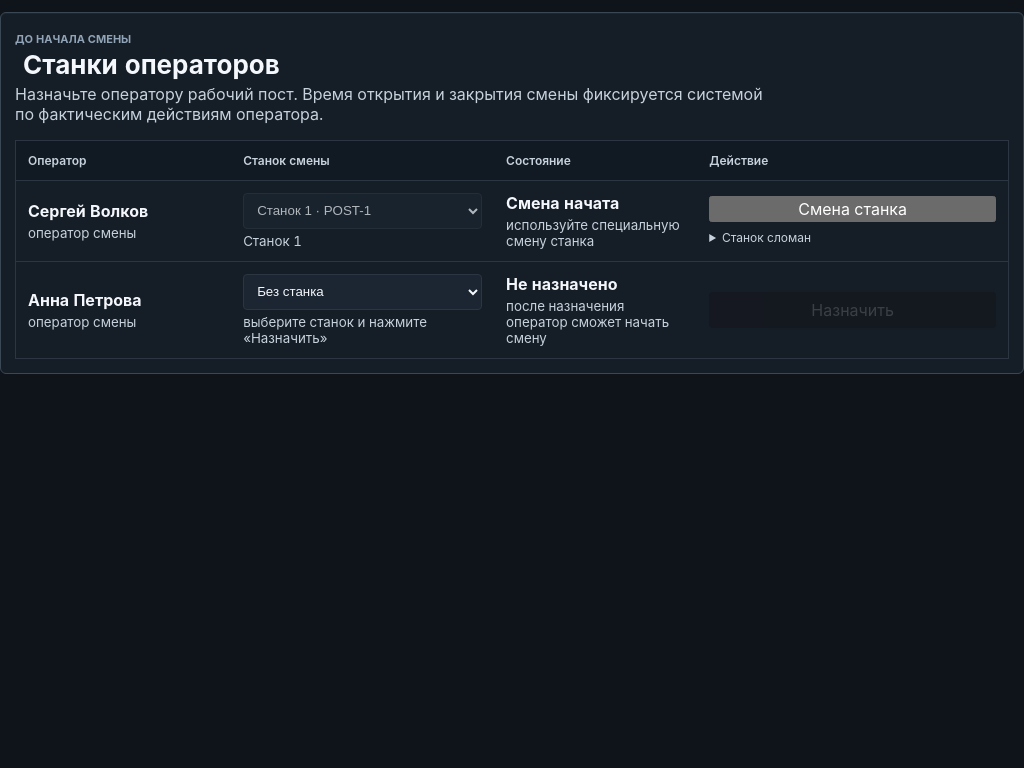
Test: ProductionMachinePlanningSurface individual shift workflow › closes and resets the locked-change dialog only after an accepted change
The width and height of the screenshot is (1024, 768).
Click the button "Смена станка": (853, 209) [709,196,996,222]
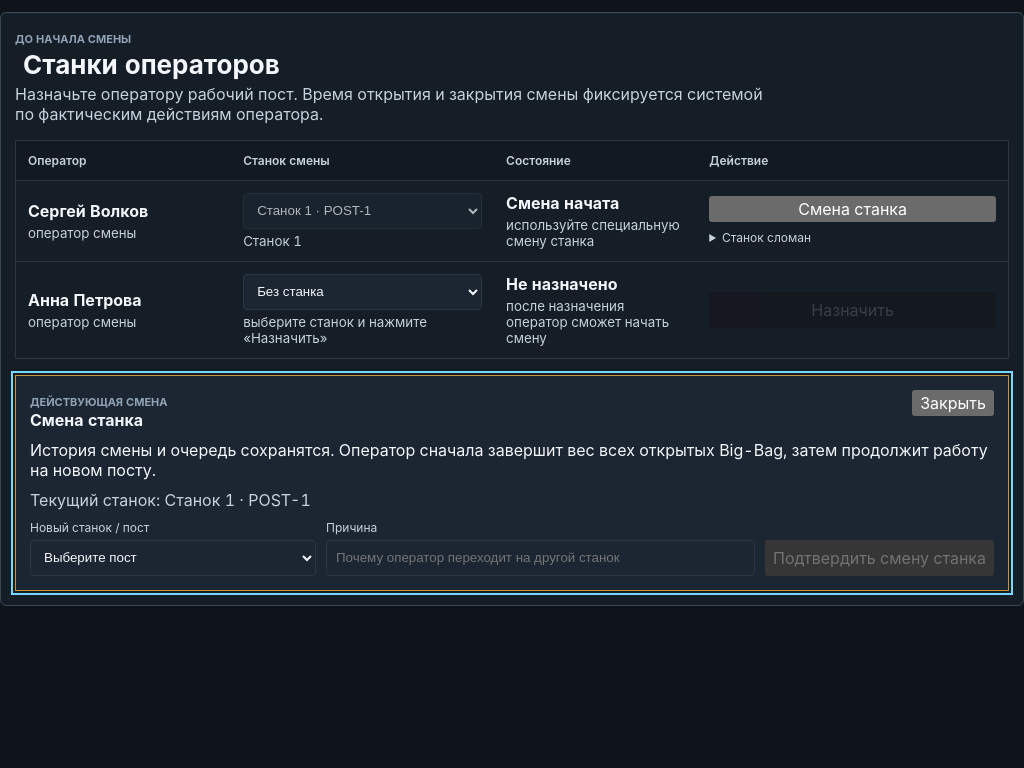
Select "Станок 2 · POST-2" in the dropdown labelled "Новый станок / пост": (173, 558) [30,540,316,576]
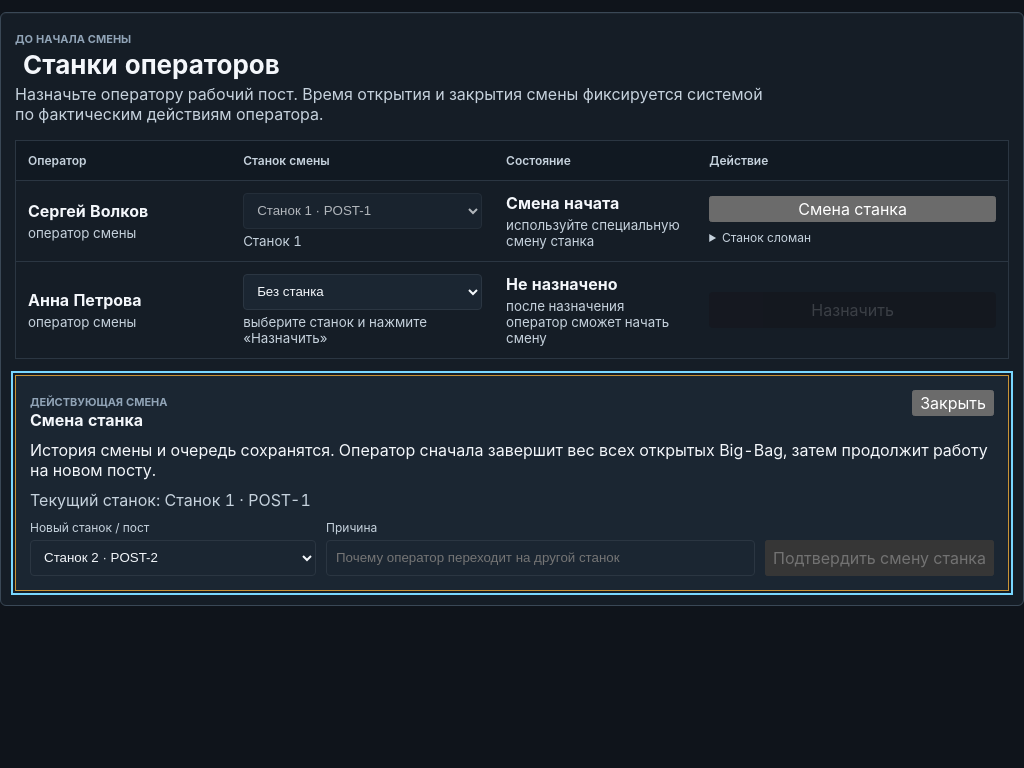
In the field labelled "Причина": (541, 558) [326,540,755,576], type "Изменился план выпуска"
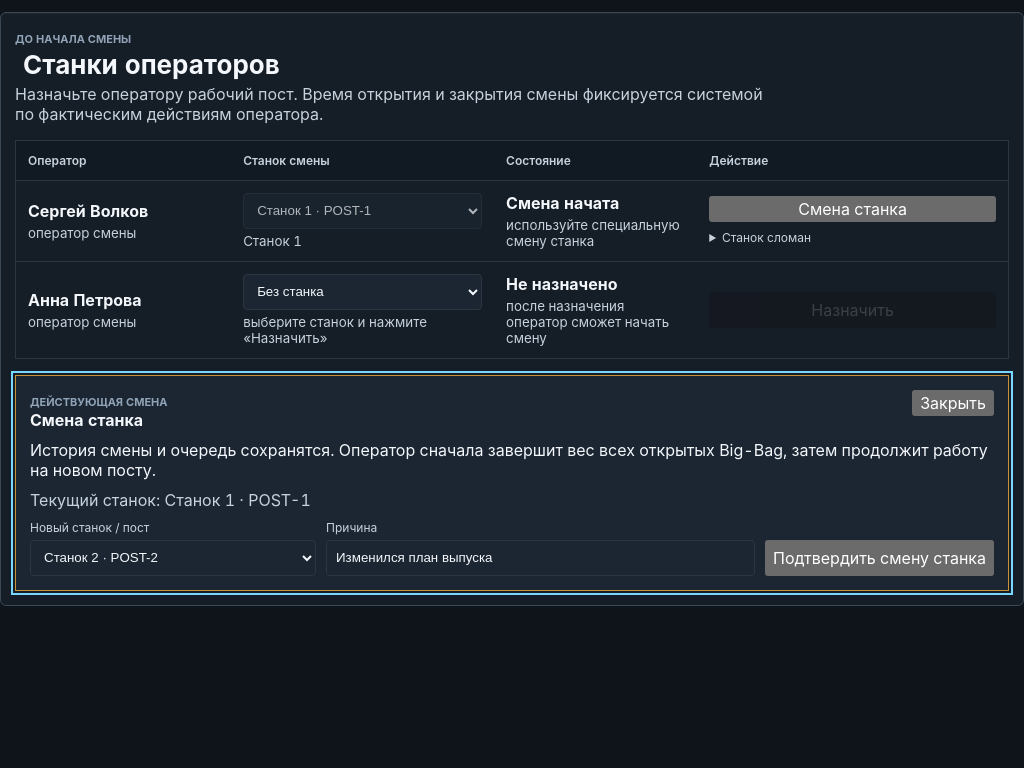
Click the button "Подтвердить смену станка": (880, 558) [765,540,994,576]
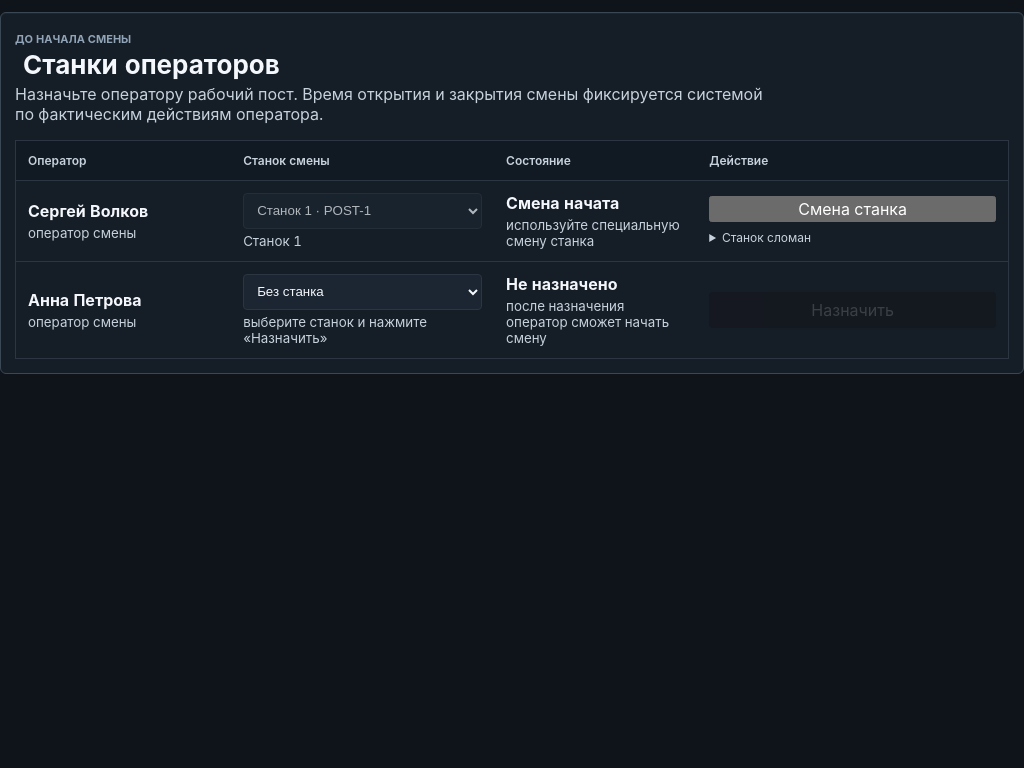
Click the button "Смена станка": (853, 209) [709,196,996,222]
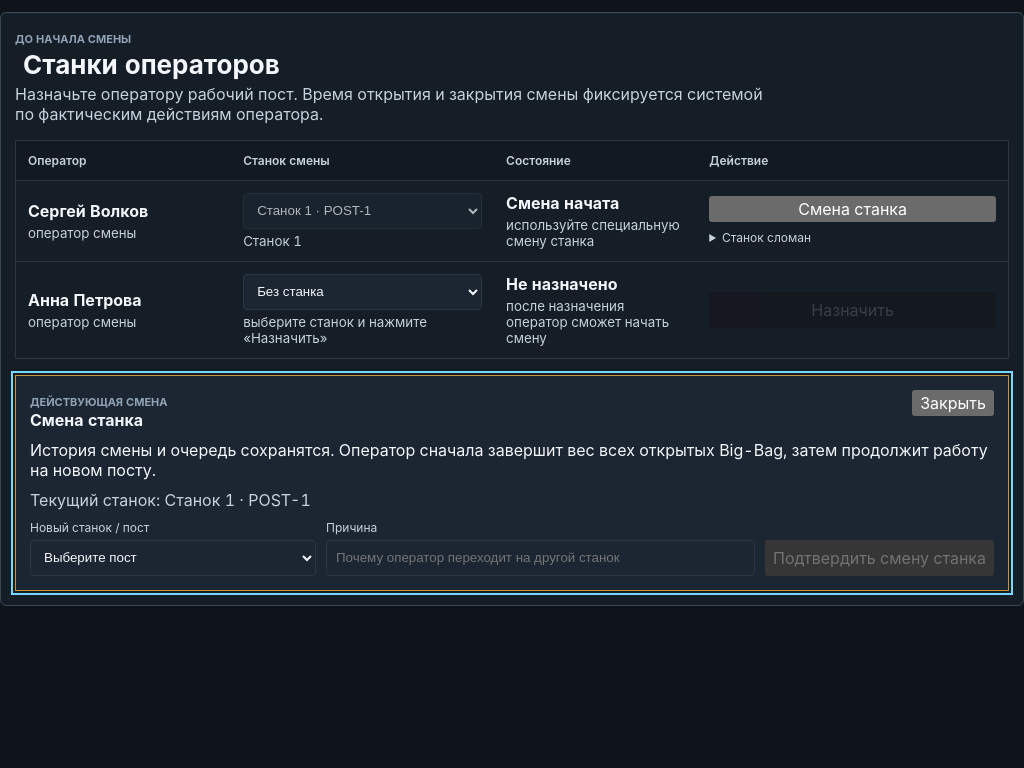
Result: the dropdown labelled "Новый станок / пост" shows "Выберите пост" at [30,540,316,576]
Result: the field labelled "Причина" is empty at [326,540,755,576]
